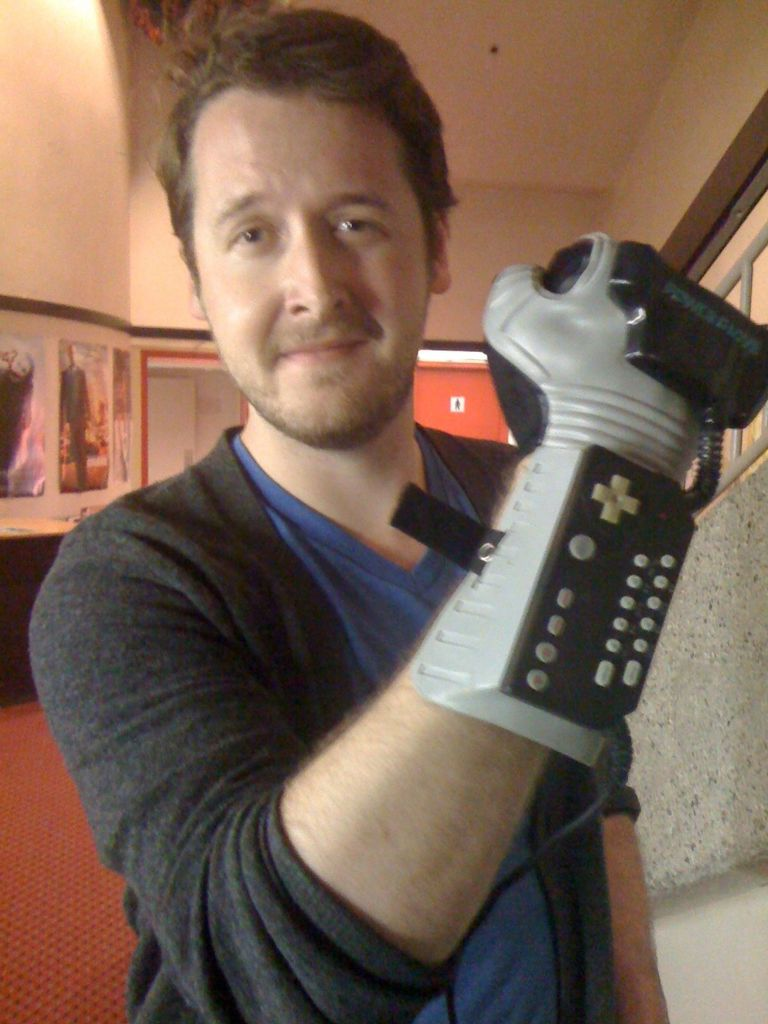Human-face: (191, 92, 436, 438)
